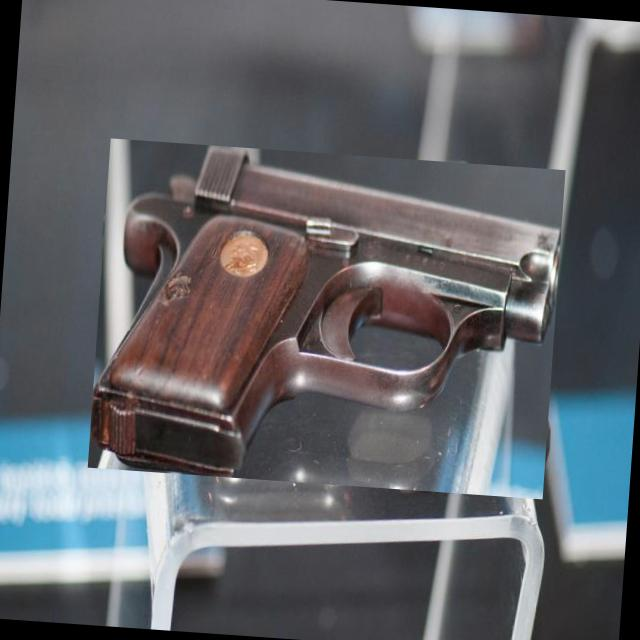Gun: (93, 146, 561, 477)
